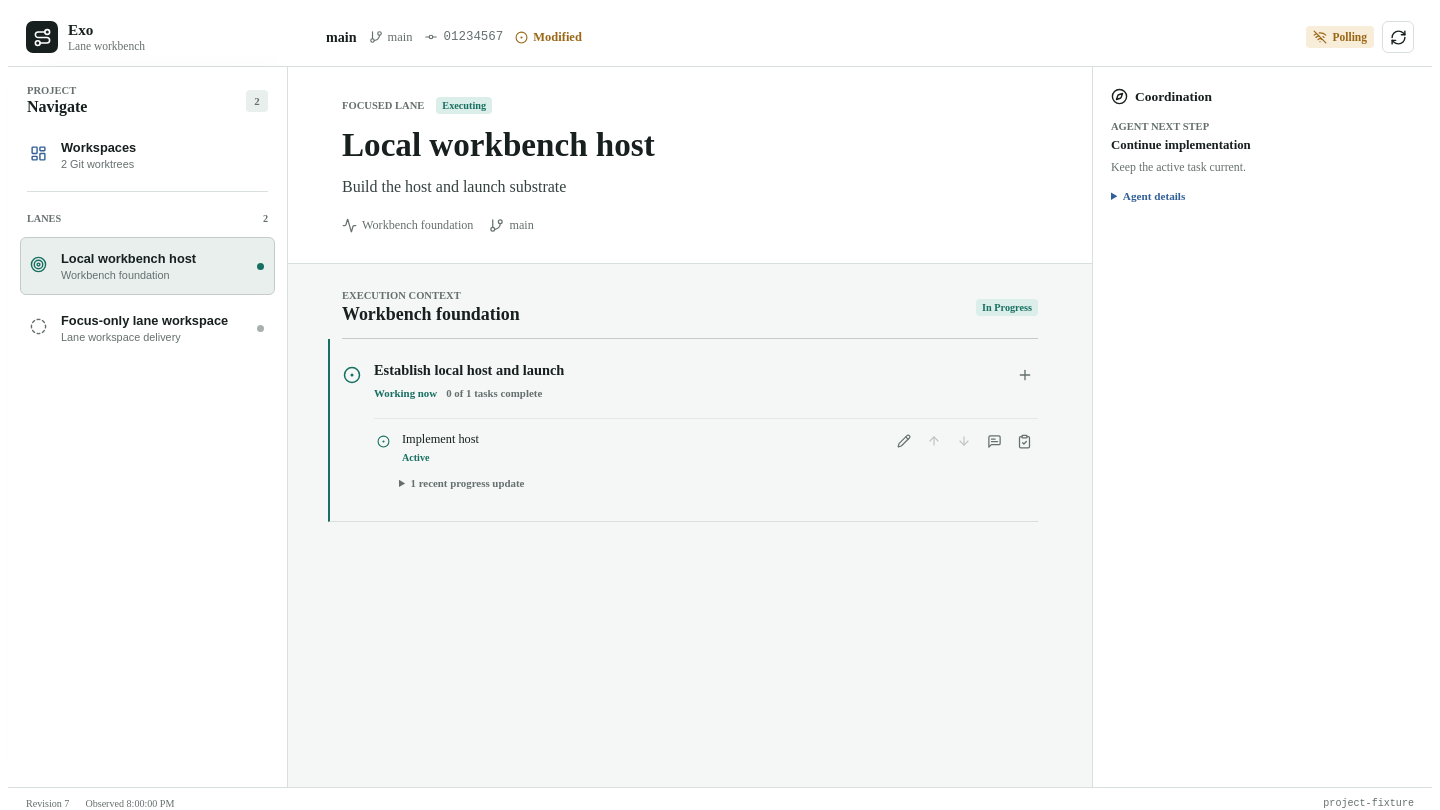
Test: focus-only lane workbench › identifies a bounded recent progress window
Click the heading "1 recent progress update" at x=462, y=483, box [399,477,524,489]
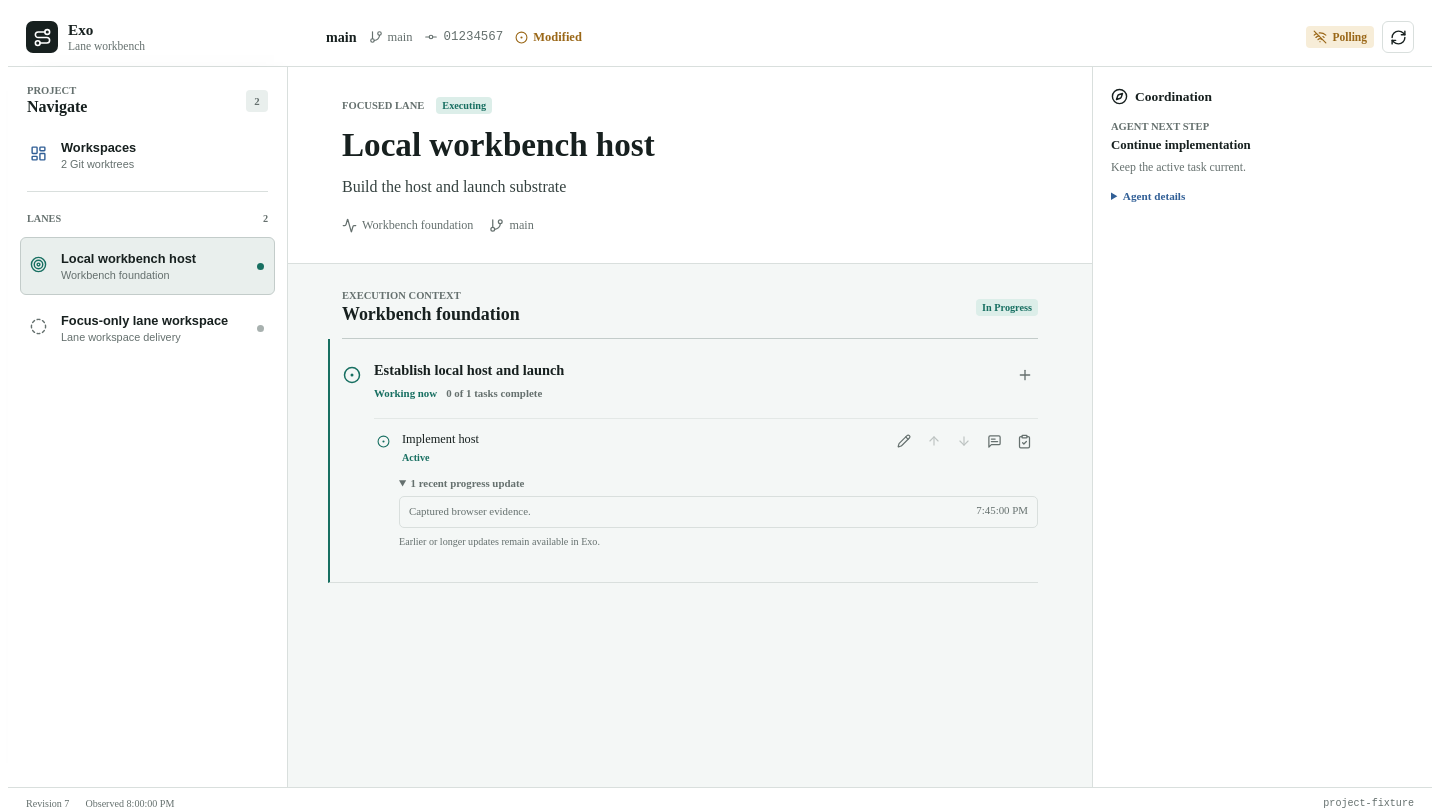
Result: the text "Earlier or longer updates remain available in Exo." is shown at [399,536,600,547]
